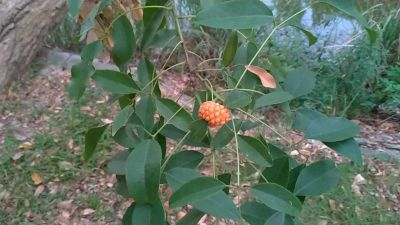eggs: (196, 95, 232, 129)
